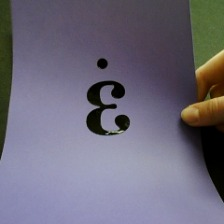violet3: (78, 56, 139, 139)
